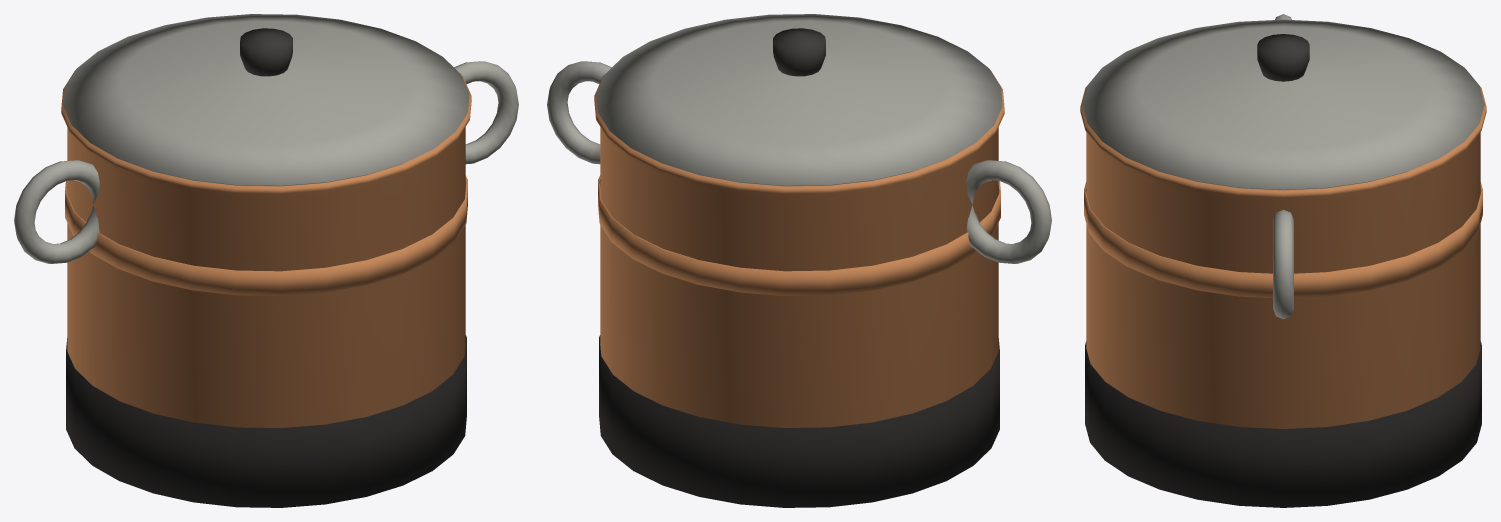
Rendered from pot.glb.
3 renders of one model, left to right at view 1: azimuth 30°, elevation 25°; view 2: azimuth 150°, elevation 25°; view 3: azimuth 270°, elevation 25°, orthographic.
Parts seen in each view (by area): view 1: pot, lid, soot, band, handle, handle.001, knob; view 2: pot, lid, soot, band, handle, handle.001, knob; view 3: pot, lid, soot, band, handle.001, knob.
Boxes of the visible parts, x1=… form: pot: x1=61, y1=70, x2=471, y2=427; lid: x1=63, y1=14, x2=469, y2=186; soot: x1=66, y1=335, x2=466, y2=507; band: x1=65, y1=175, x2=467, y2=295; handle: x1=14, y1=160, x2=99, y2=263; handle.001: x1=454, y1=61, x2=518, y2=164; knob: x1=240, y1=28, x2=292, y2=76; pot: x1=594, y1=70, x2=1004, y2=427; lid: x1=596, y1=14, x2=1002, y2=186; soot: x1=599, y1=335, x2=999, y2=507; band: x1=598, y1=175, x2=1000, y2=295; handle: x1=966, y1=160, x2=1051, y2=263; handle.001: x1=547, y1=61, x2=611, y2=164; knob: x1=773, y1=28, x2=825, y2=76; pot: x1=1080, y1=85, x2=1486, y2=428; lid: x1=1082, y1=19, x2=1484, y2=190; soot: x1=1085, y1=341, x2=1481, y2=507; band: x1=1084, y1=182, x2=1482, y2=298; handle.001: x1=1273, y1=209, x2=1293, y2=319; knob: x1=1257, y1=34, x2=1309, y2=81.
Bounding box in the file's own units: 0.436 × 0.326 × 0.309.
